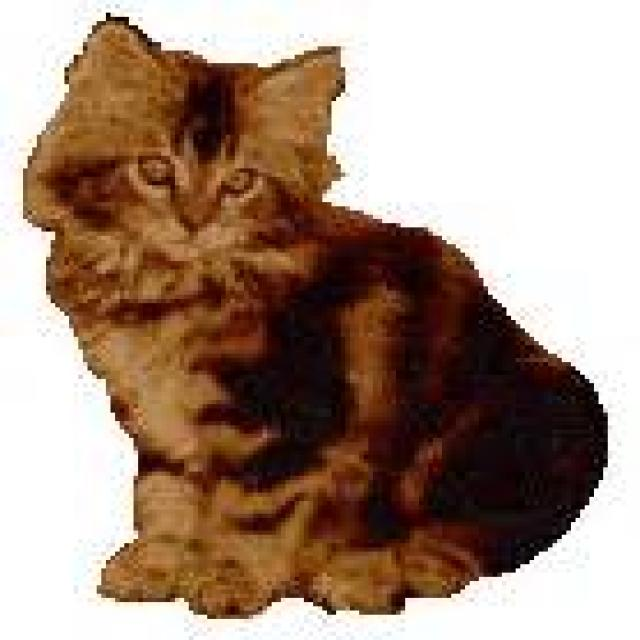cat: (14, 3, 611, 620)
